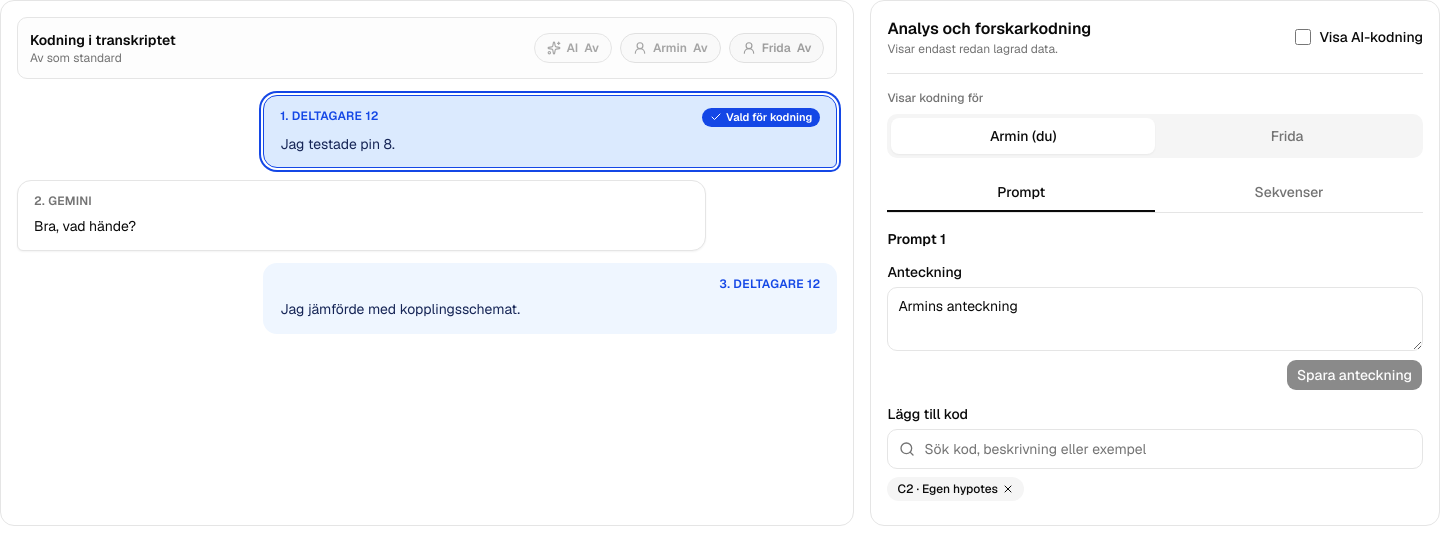
Test: TranscriptWorkspace › saving researcher coding › saves the note only with its button
Expected: the button "Spara anteckning" is disabled, [1286,359,1423,391]
Replace the text in the text box labelled "Anteckning" with "Ny anteckning" at (1155, 319), box [887,287,1423,351]
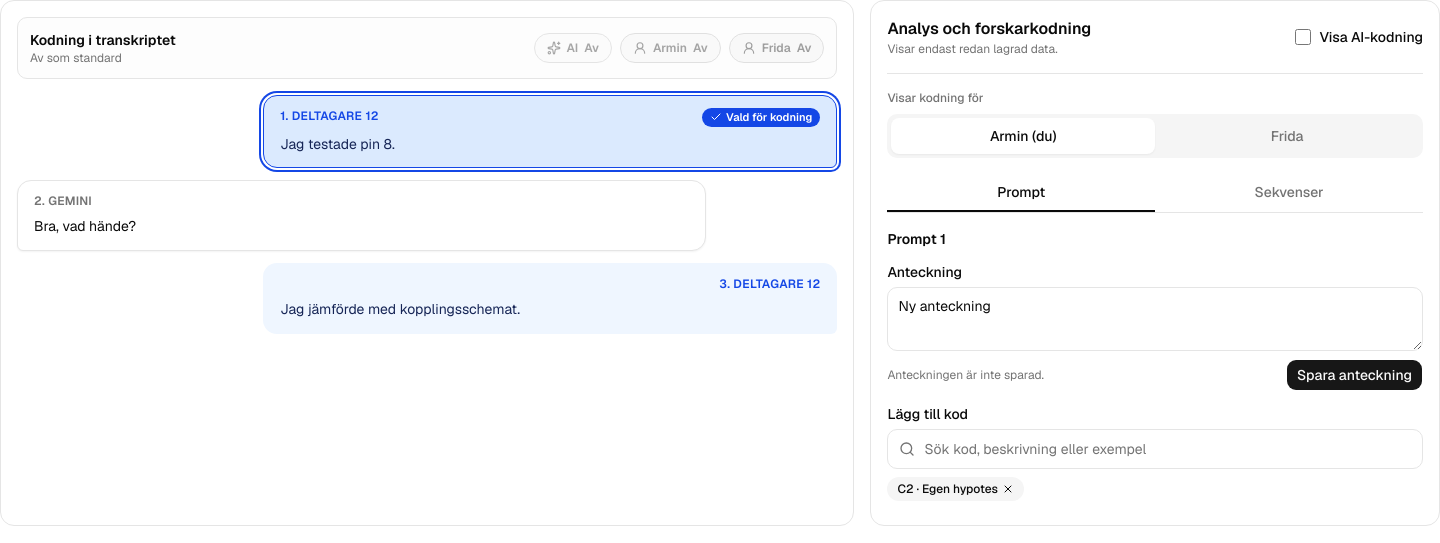
Click the button "Spara anteckning" at (1354, 375), box [1286,359,1423,391]
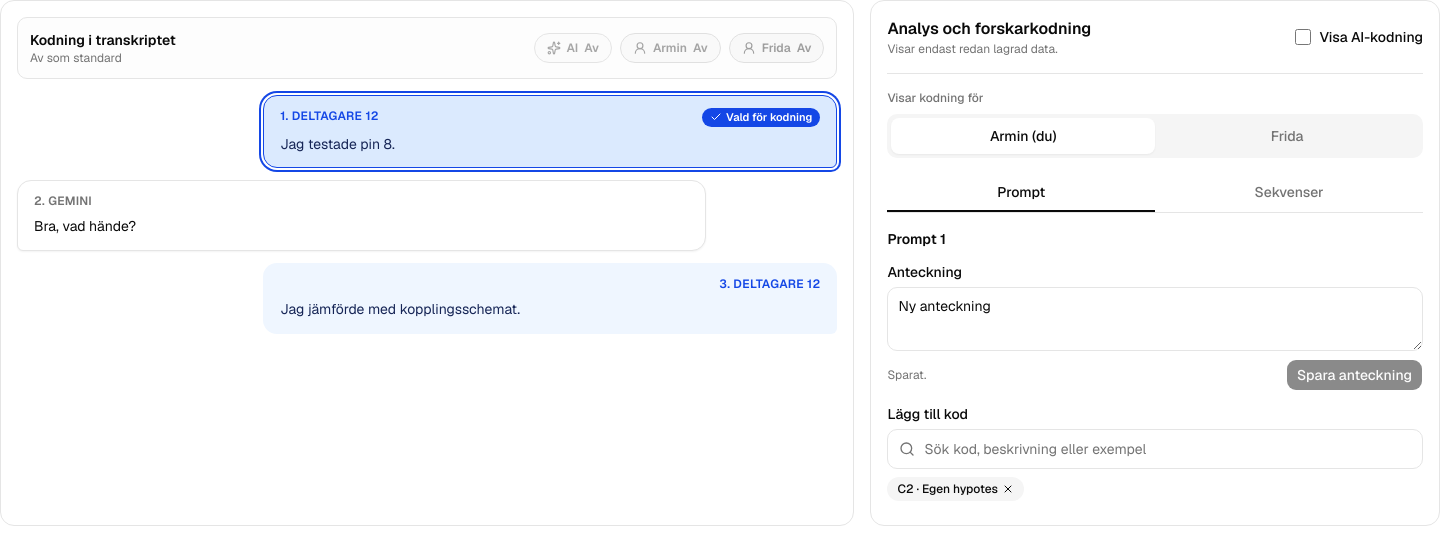
Now the button "Spara anteckning" is disabled, box [1286,359,1423,391]
Now the text "Sparat." is shown, box [887,367,926,383]
